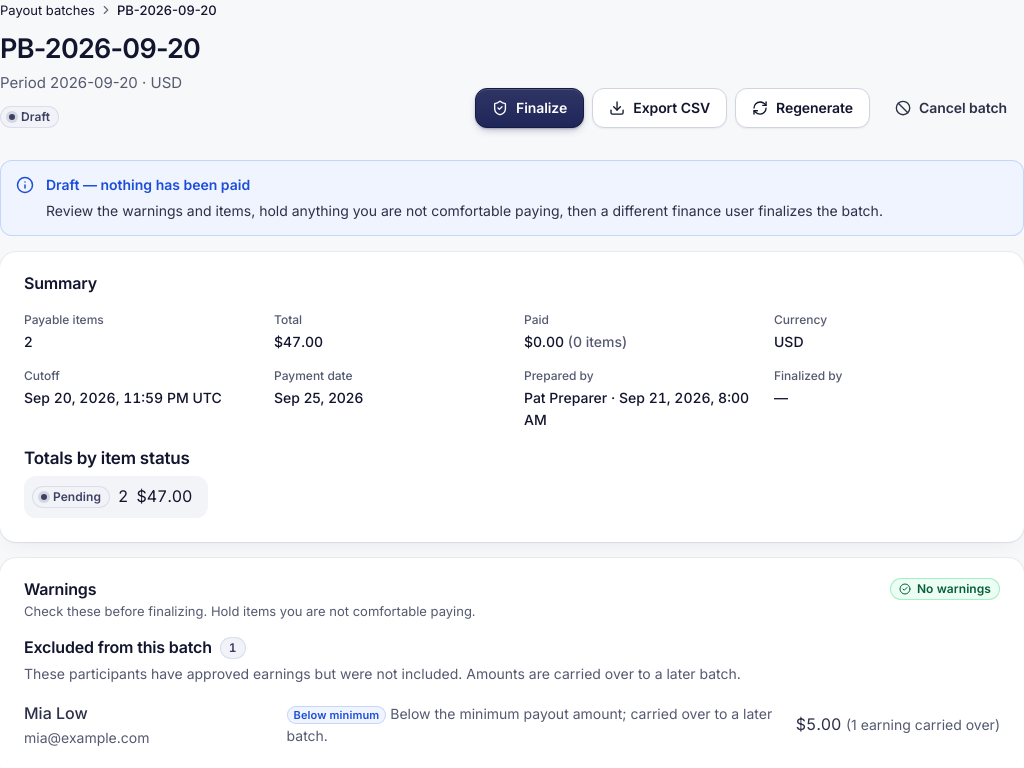
it: BatchReviewPage — finalize › requires the typed reference and shows the self-finalize error
This screenshot has width=1024, height=768.
Click the button "Finalize".
click(530, 108)  # box [475,88,584,128]
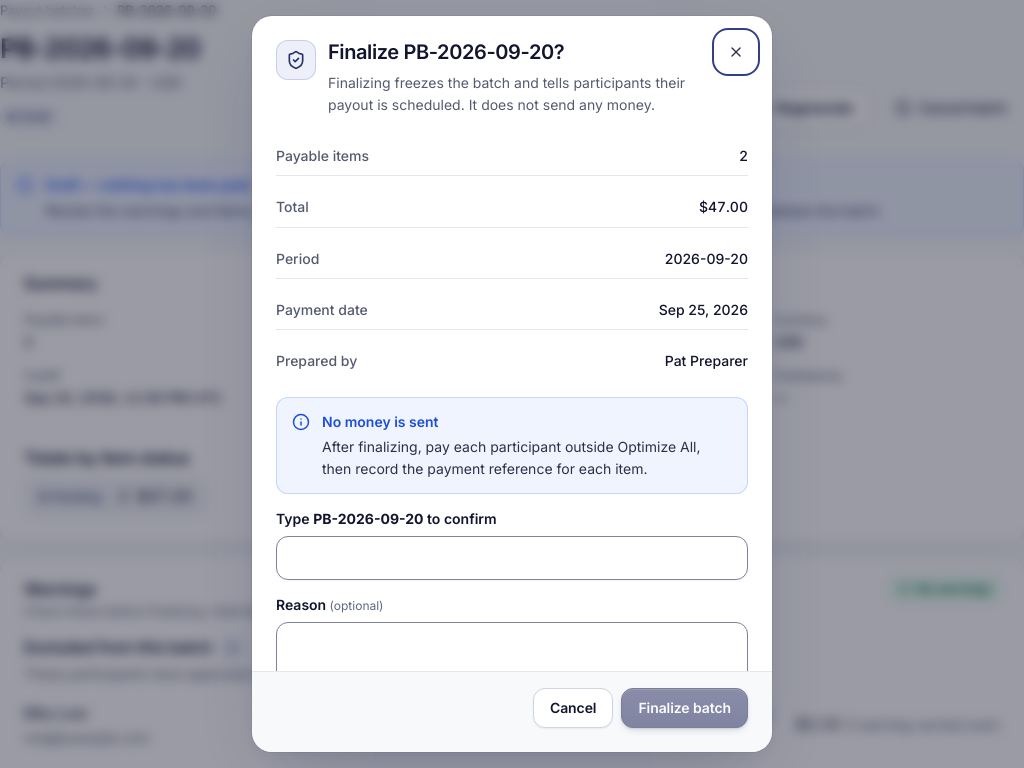
Check: the text "No money is sent" is shown, box [322,413,438,430]
Check: the button "Finalize batch" is disabled, box [621,688,748,728]
Type "PB-2026-09-2" into the field labelled "Type PB-2026-09-20 to confirm".
click(512, 558); type("PB-2026-09-2")  # box [276,536,748,580]
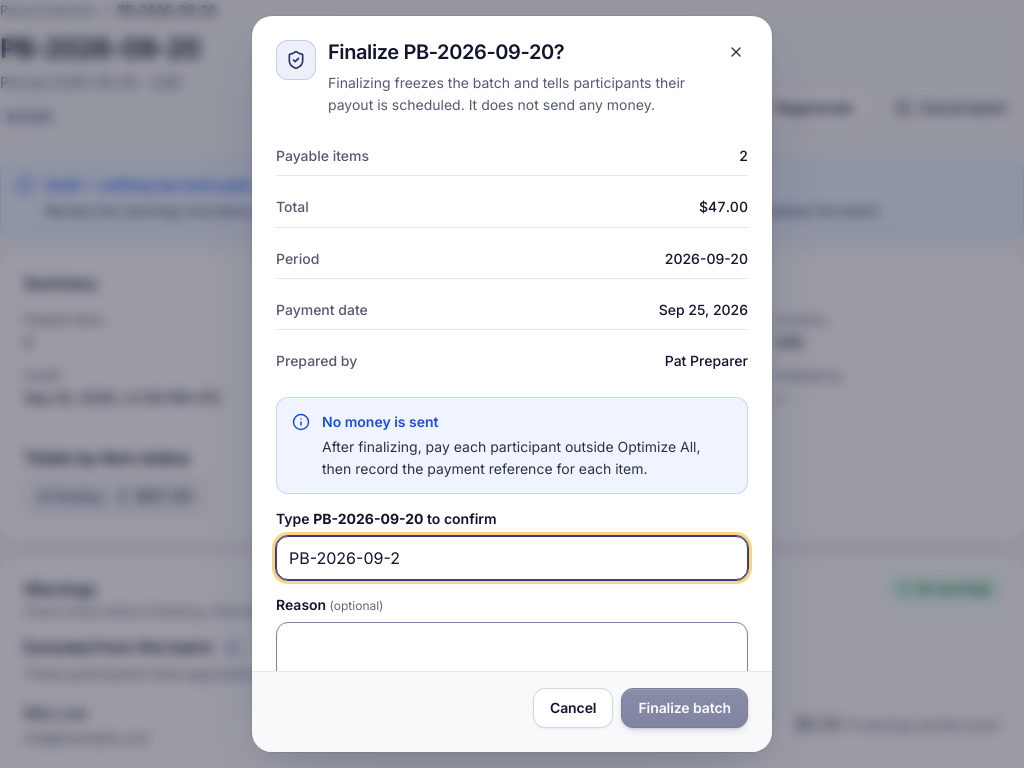
Type "0" into the field labelled "Type PB-2026-09-20 to confirm".
click(512, 558); type("0")  # box [276,536,748,580]
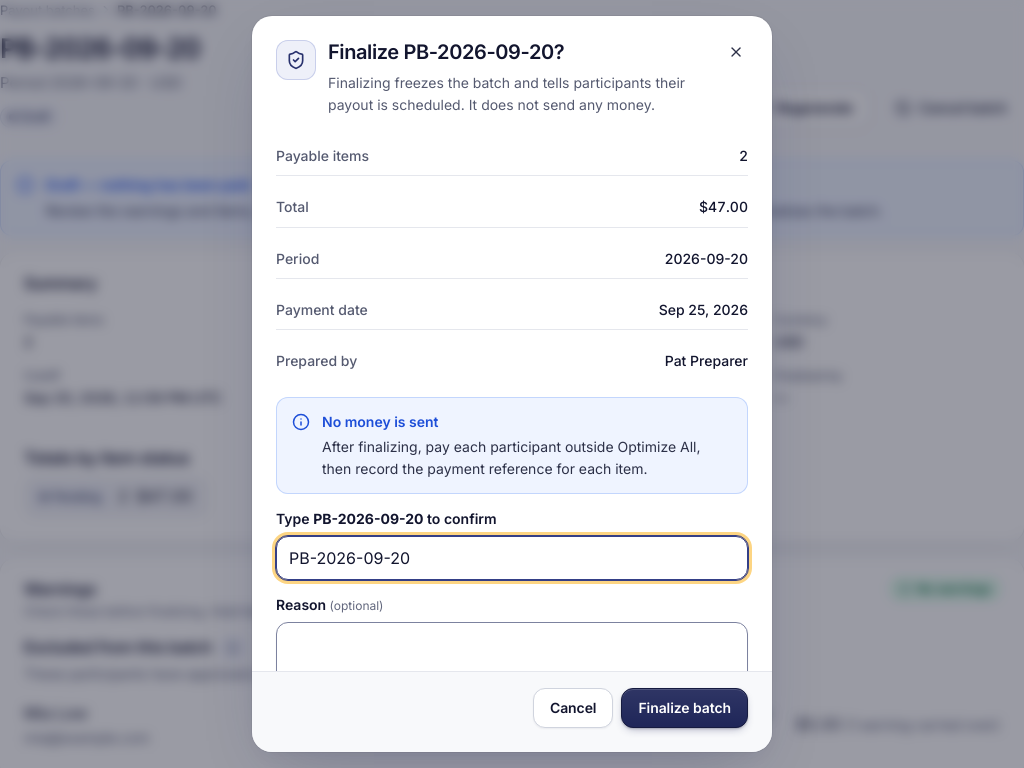
Click the button "Finalize batch".
click(685, 708)  # box [621,688,748,728]
(page scrolled)
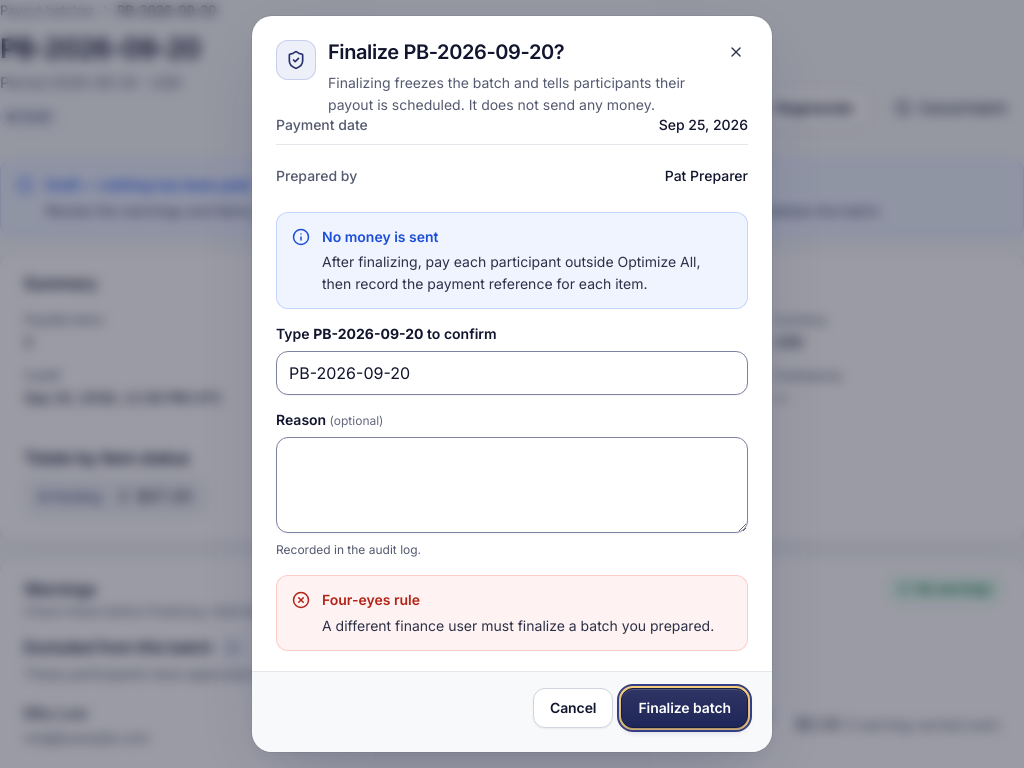
Check: the text "A different finance user must finalize a batch you prepared." is shown, box [322,615,732,637]
